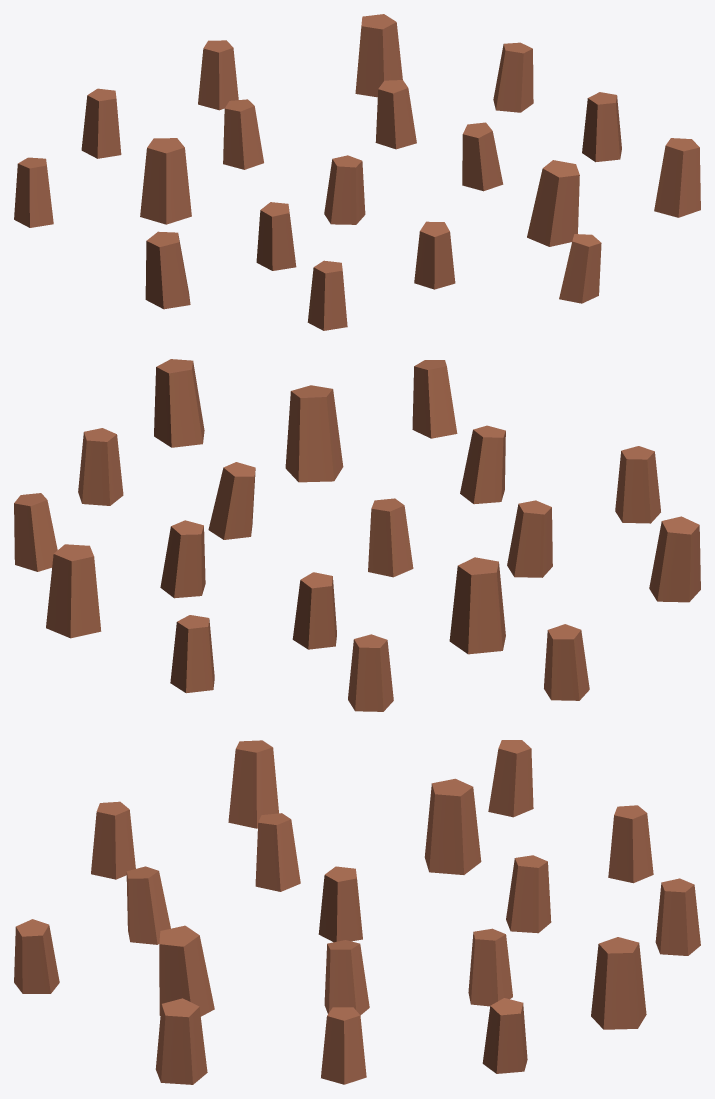
File: trees_a_cut.glb
The picture shows the model from 3 angles, top to bottom: view 1: azimuth 30°, elevation 25°; view 2: azimuth 150°, elevation 25°; view 3: azimuth 270°, elevation 25°; orthographic projection. The views are drawn at different scales.
Parts seen in each view (by area): view 1: trees_A_cut; view 2: trees_A_cut; view 3: trees_A_cut.
Boxes of the visible parts, bbox=[...] form: trees_A_cut: bbox=[14, 14, 700, 330]; trees_A_cut: bbox=[14, 359, 700, 711]; trees_A_cut: bbox=[14, 740, 700, 1084].
Bounding box in the file's own units: 1.66 × 0.2096 × 1.68.
1 material, 1 textured.
